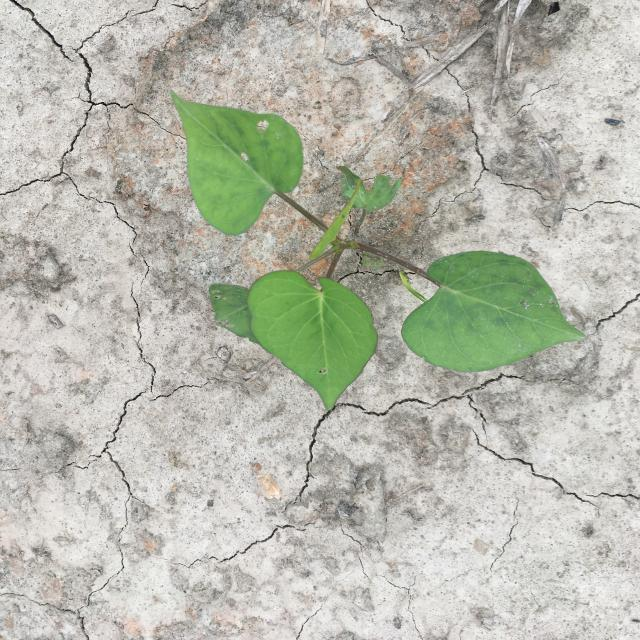MorningGlory: (168, 88, 588, 411)
